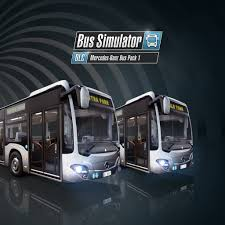bus: (1, 79, 121, 184), (111, 92, 196, 179)
